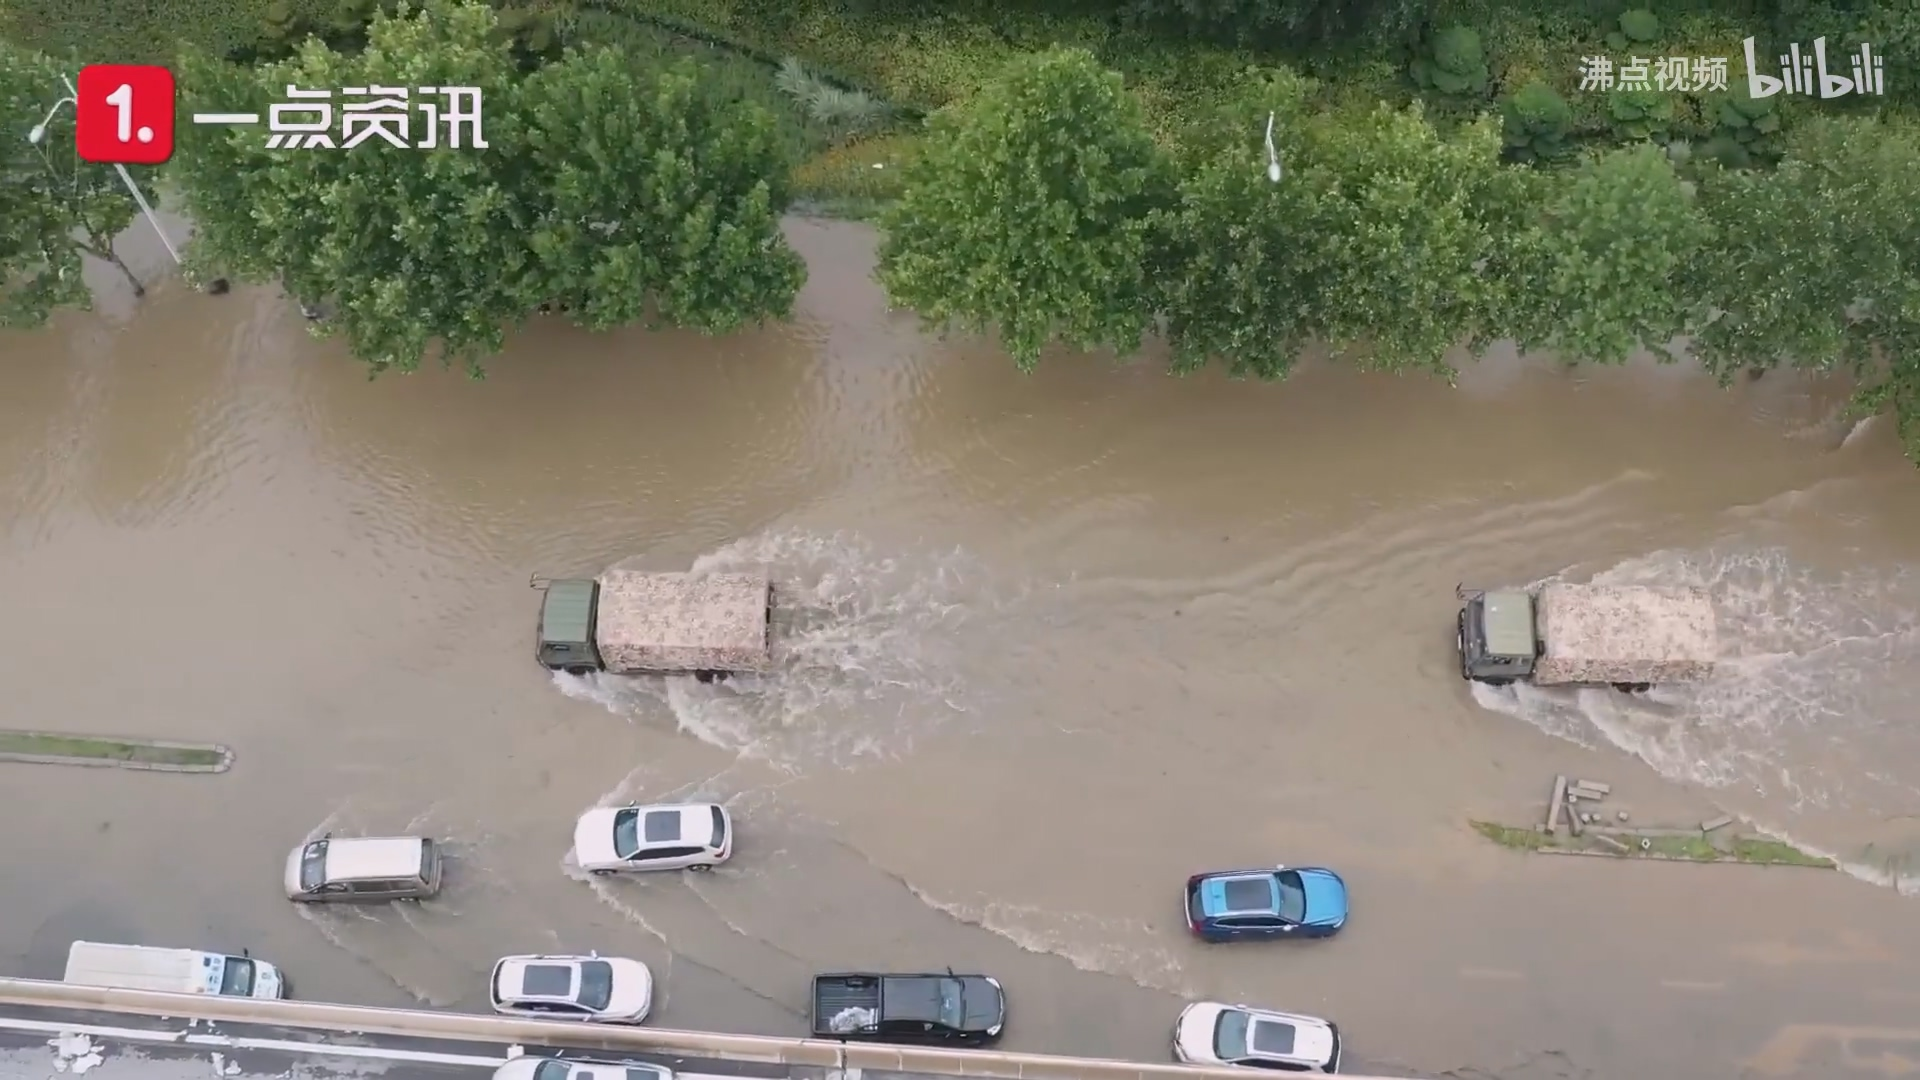puddle: (45, 284, 1905, 1069)
